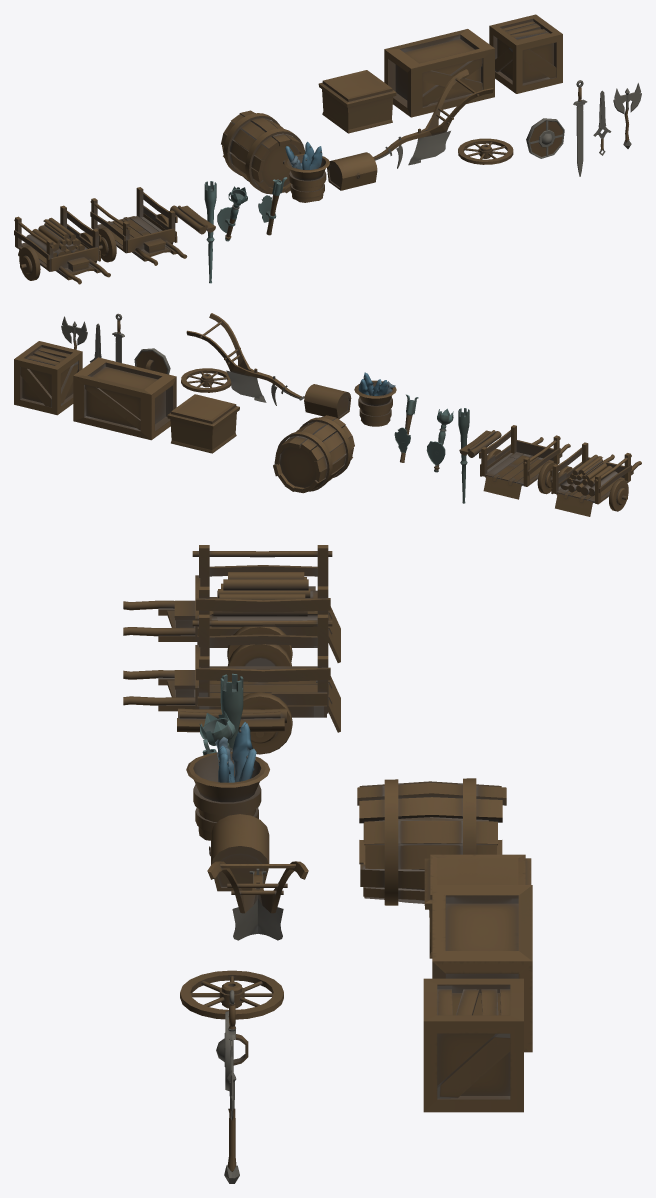
Rendered from PR_Barrels_Swords_Tourch.gltf.
The picture shows the model from 3 angles, top to bottom: view 1: azimuth 30°, elevation 25°; view 2: azimuth 150°, elevation 25°; view 3: azimuth 270°, elevation 25°; orthographic projection. The views are drawn at different scales.
Visible parts, largest first — view 1: PR_Crate02, PR_Crate01, PR_Barrel, PR_Cart_Logs, PR_Cart, PR_Chest02, PR_Plow, PR_Fish_Basket, PR_Chest01, PR_Shield, PR_Cart_Wheel, PR_Torch02 (+6 smaller); view 2: PR_Crate02, PR_Barrel, PR_Cart_Logs, PR_Crate01, PR_Cart, PR_Chest02, PR_Plow, PR_Fish_Basket, PR_Chest01, PR_Cart_Wheel, PR_Torch02, PR_Shield (+5 smaller); view 3: PR_Crate01, PR_Barrel, PR_Cart, PR_Cart_Logs, PR_Crate02, PR_Fish_Basket, PR_Plow, PR_Chest02, PR_Chest01, PR_Cart_Wheel, PR_Log, PR_Torch03 (+1 smaller).
Boxes of the visible parts, left/top/right/bottom form: PR_Crate02: left=384, top=29, right=494, bottom=117; PR_Crate01: left=489, top=14, right=562, bottom=93; PR_Barrel: left=221, top=110, right=305, bottom=194; PR_Cart_Logs: left=14, top=205, right=110, bottom=284; PR_Cart: left=90, top=187, right=187, bottom=265; PR_Chest02: left=318, top=70, right=396, bottom=133; PR_Plow: left=373, top=69, right=493, bottom=168; PR_Fish_Basket: left=284, top=141, right=329, bottom=202; PR_Chest01: left=327, top=152, right=377, bottom=190; PR_Shield: left=526, top=118, right=564, bottom=158; PR_Cart_Wheel: left=458, top=138, right=513, bottom=164; PR_Torch02: left=217, top=186, right=247, bottom=241; PR_Crate02: left=73, top=357, right=176, bottom=440; PR_Barrel: left=273, top=415, right=354, bottom=493; PR_Cart_Logs: left=550, top=442, right=641, bottom=516; PR_Crate01: left=14, top=341, right=82, bottom=415; PR_Cart: left=479, top=425, right=570, bottom=499; PR_Chest02: left=167, top=394, right=239, bottom=453; PR_Plow: left=186, top=313, right=304, bottom=405; PR_Fish_Basket: left=354, top=372, right=396, bottom=426; PR_Chest01: left=304, top=384, right=351, bottom=419; PR_Cart_Wheel: left=181, top=368, right=231, bottom=392; PR_Torch02: left=426, top=408, right=453, bottom=472; PR_Shield: left=134, top=348, right=170, bottom=374; PR_Crate01: left=423, top=978, right=523, bottom=1112; PR_Barrel: left=357, top=778, right=506, bottom=905; PR_Cart: left=123, top=614, right=340, bottom=754; PR_Cart_Logs: left=123, top=545, right=340, bottom=662; PR_Crate02: left=432, top=885, right=532, bottom=1052; PR_Fish_Basket: left=186, top=722, right=269, bottom=840; PR_Plow: left=207, top=861, right=308, bottom=940; PR_Chest02: left=424, top=854, right=531, bottom=958; PR_Chest01: left=209, top=814, right=269, bottom=891; PR_Cart_Wheel: left=180, top=970, right=283, bottom=1019; PR_Log: left=177, top=708, right=286, bottom=732; PR_Torch03: left=220, top=673, right=243, bottom=749.
Bounding box in the file's own units: 9 × 1.84 × 2.78.
1 material, 1 textured.
